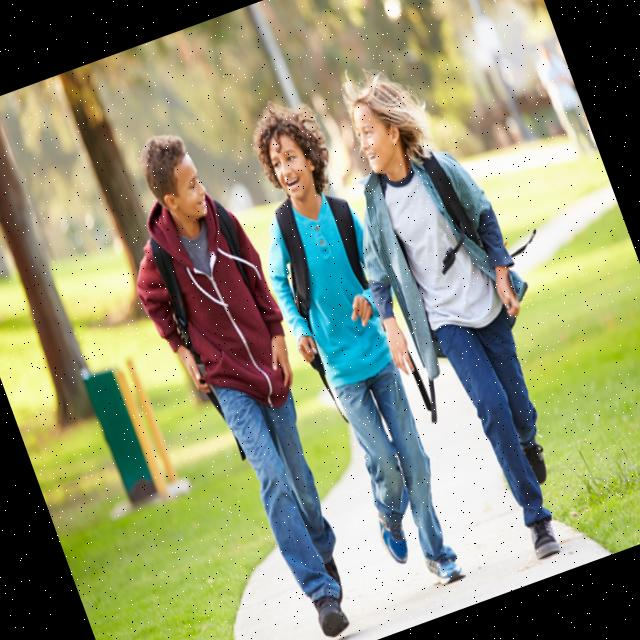Person: (300, 52, 618, 586), (88, 114, 391, 640), (214, 92, 487, 604)
